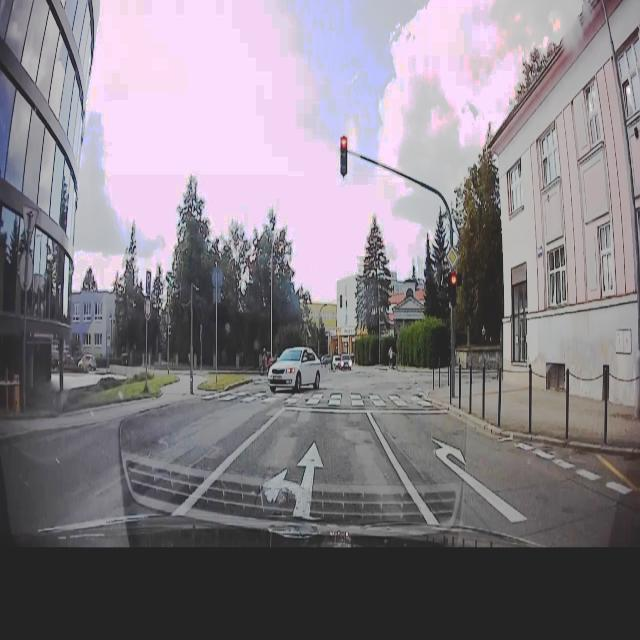Priority road: (445, 245, 458, 270)
